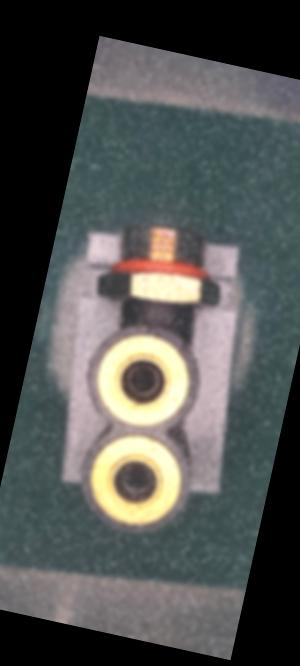bump: (139, 320, 164, 340), (175, 335, 195, 354)
white mark: (147, 299, 160, 313)
